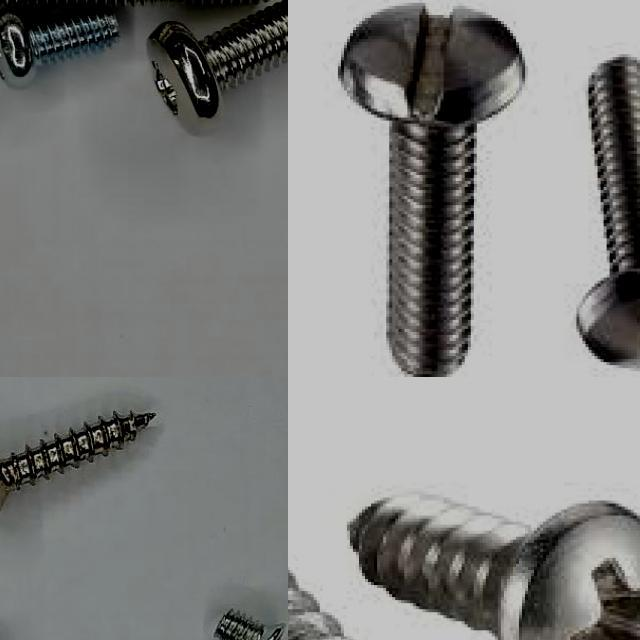Screw: (338, 3, 525, 377), (347, 491, 640, 640), (573, 57, 640, 373), (147, 0, 288, 131), (0, 411, 155, 511), (0, 7, 117, 87), (214, 609, 286, 640)
